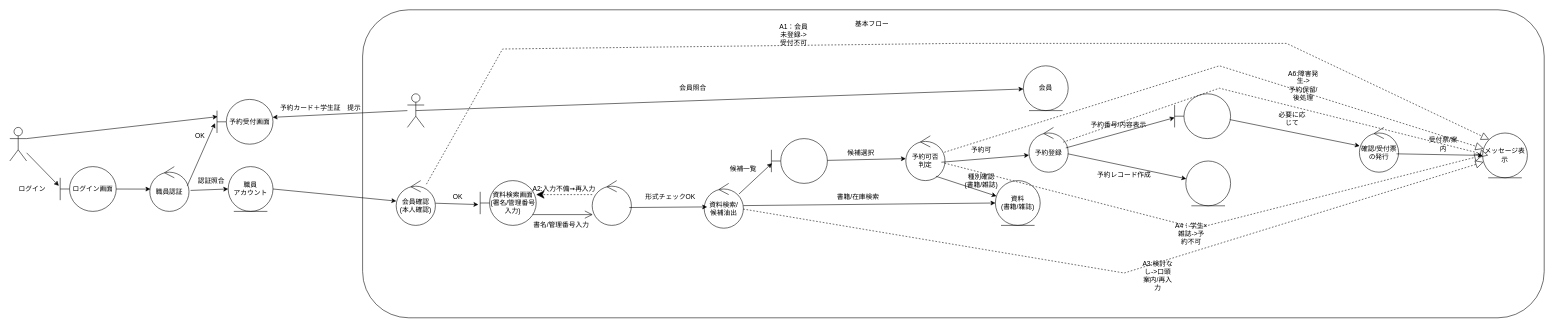
Image size: 1554x328. Some labels were removed from this diagram. The shapes that lost their labels are listed below. From the top down, each one's box as (x1, y1, x2, y2) in pixels, then its label:
(407, 93, 424, 127): 学生/教職員
(1174, 93, 1231, 139): 予約内容確認/ 完了画面
(9, 127, 27, 161): 職員
(771, 138, 827, 183): 候補一覧/ 選択画面
(592, 180, 631, 225): 入力検証
(1185, 160, 1231, 206): 予約
